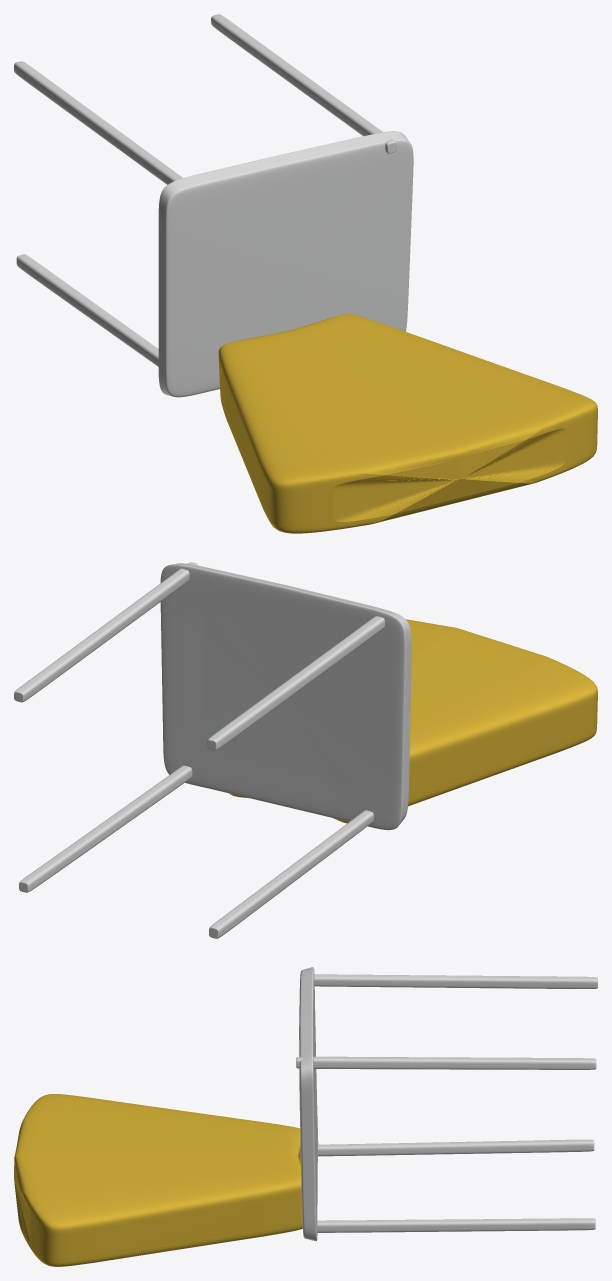
File: 5_cheese_chair.glb
3 views of the same model, one above another, from view 1: azimuth 30°, elevation 25°; view 2: azimuth 150°, elevation 25°; view 3: azimuth 270°, elevation 25° (orthographic). The views are drawn at different scales.
Visible parts, largest first — view 1: superquadric_1, superquadric_0, superquadric_5, superquadric_2, superquadric_3; view 2: superquadric_0, superquadric_1, superquadric_2, superquadric_5, superquadric_4, superquadric_3; view 3: superquadric_1, superquadric_0, superquadric_2, superquadric_5, superquadric_4, superquadric_3.
Part boxes in pixels (x1,y1,x2,y2): superquadric_1: [218, 314, 597, 533]; superquadric_0: [158, 131, 413, 397]; superquadric_5: [211, 14, 396, 153]; superquadric_2: [14, 61, 182, 184]; superquadric_3: [16, 254, 158, 366]; superquadric_0: [160, 563, 411, 830]; superquadric_1: [229, 619, 597, 823]; superquadric_2: [207, 616, 384, 750]; superquadric_5: [14, 562, 198, 702]; superquadric_4: [19, 765, 192, 892]; superquadric_3: [209, 810, 373, 938]; superquadric_1: [14, 1094, 302, 1266]; superquadric_0: [299, 967, 318, 1241]; superquadric_2: [314, 974, 597, 988]; superquadric_5: [296, 1056, 596, 1069]; superquadric_4: [317, 1218, 595, 1232]; superquadric_3: [318, 1139, 594, 1156].
Size of the model in its own units: 0.543 by 0.3679 by 1.
